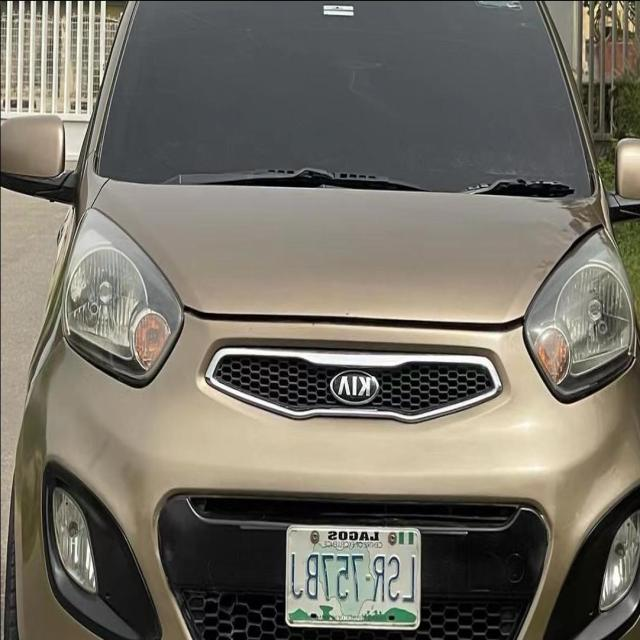Nigerian License Plate - vdataset benjamin-daria: (281, 520, 425, 638)
